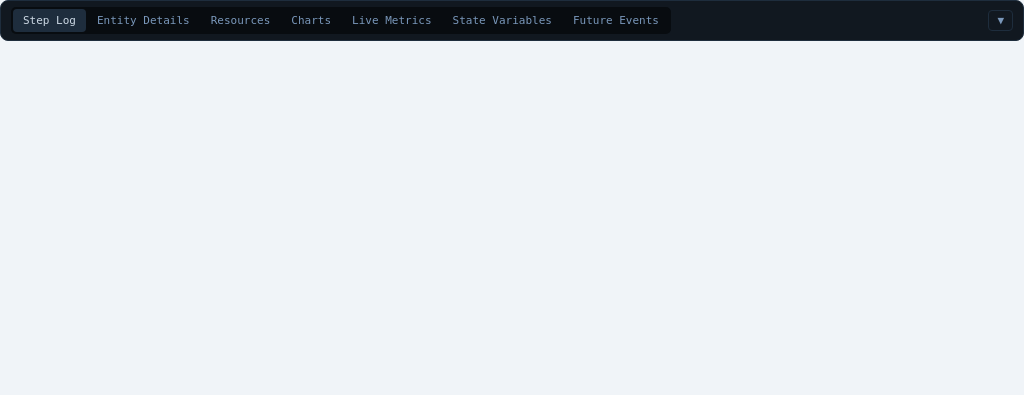
Test: BottomPanel — F9C.8 › collapse toggle hides the panel body
Panel starts collapsed — expand it first
Click the button named "expand details" at (1001, 20), box left=988, top=10, right=1013, bottom=31
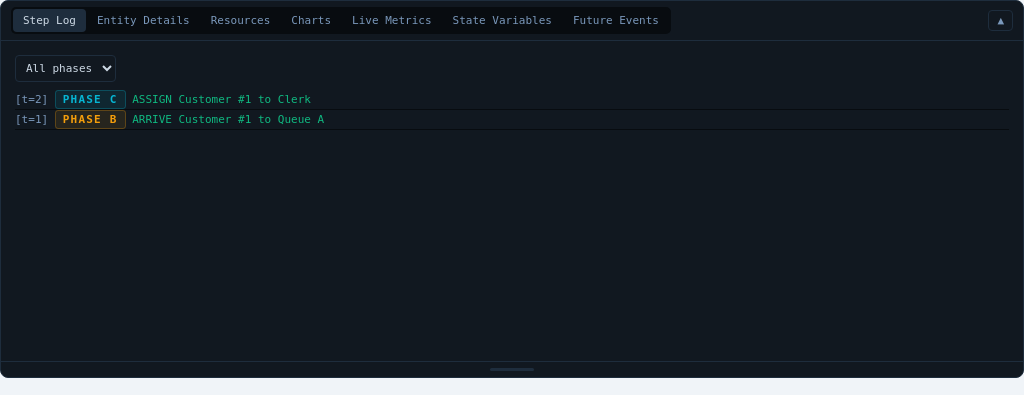
Check: the text "[t=1] Phase B ARRIVE Customer #1 to Queue A" is shown, box left=15, top=110, right=1009, bottom=130
Now collapse it
Click the button named "collapse details" at (1001, 20), box left=988, top=10, right=1013, bottom=31
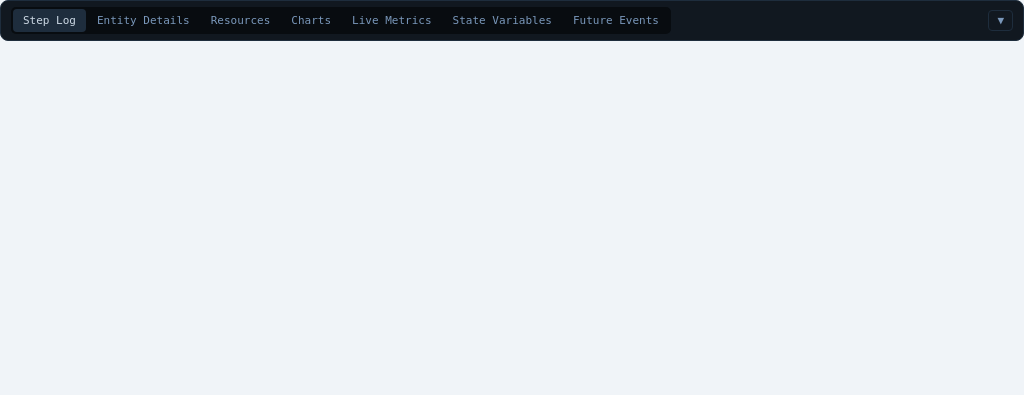
Check: the text "ARRIVE Customer" is gone
